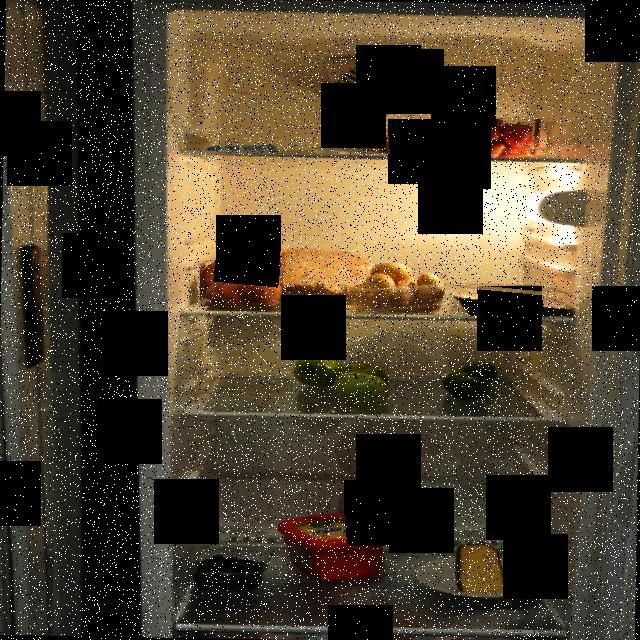apple: (286, 349, 392, 413)
blueberries: (186, 542, 278, 594)
bread: (276, 246, 375, 302)
butter: (271, 510, 385, 583)
cheese: (450, 541, 510, 596)
chicken_breast: (444, 282, 579, 316)
chocolate: (203, 144, 280, 154)
eggs: (331, 124, 436, 154)
lime: (434, 360, 504, 404)
potato: (346, 263, 447, 314)
strawberries: (453, 120, 547, 158)
sweet_potato: (200, 254, 285, 306)
